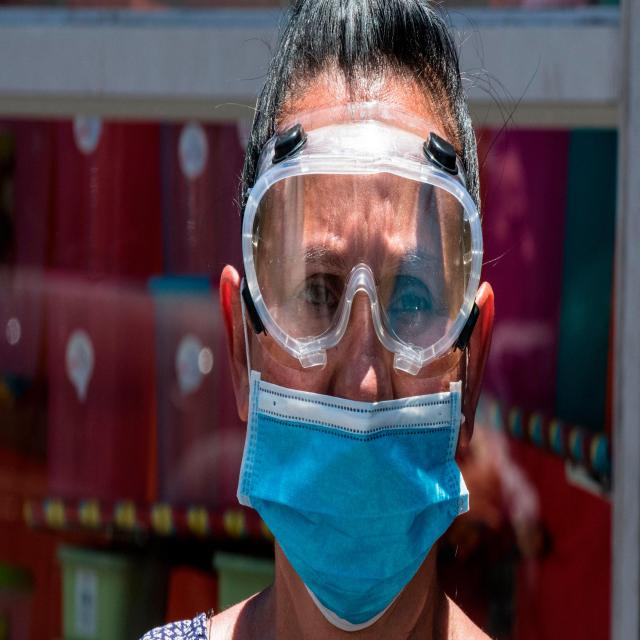Goggles: (241, 121, 484, 378)
Mask: (240, 370, 471, 629)
